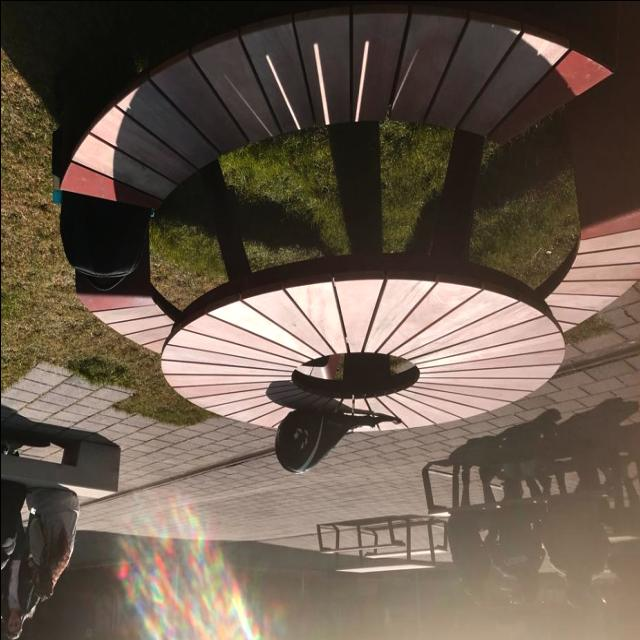paddle: (272, 408, 376, 477)
